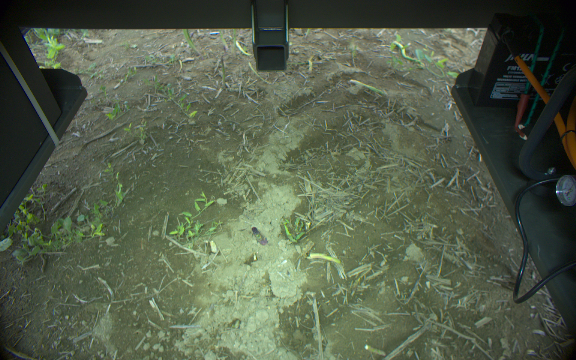aspa: (347, 77, 390, 101), (393, 39, 424, 65), (182, 28, 206, 61), (230, 27, 252, 58), (249, 225, 268, 246), (217, 27, 230, 51), (219, 53, 226, 93)
